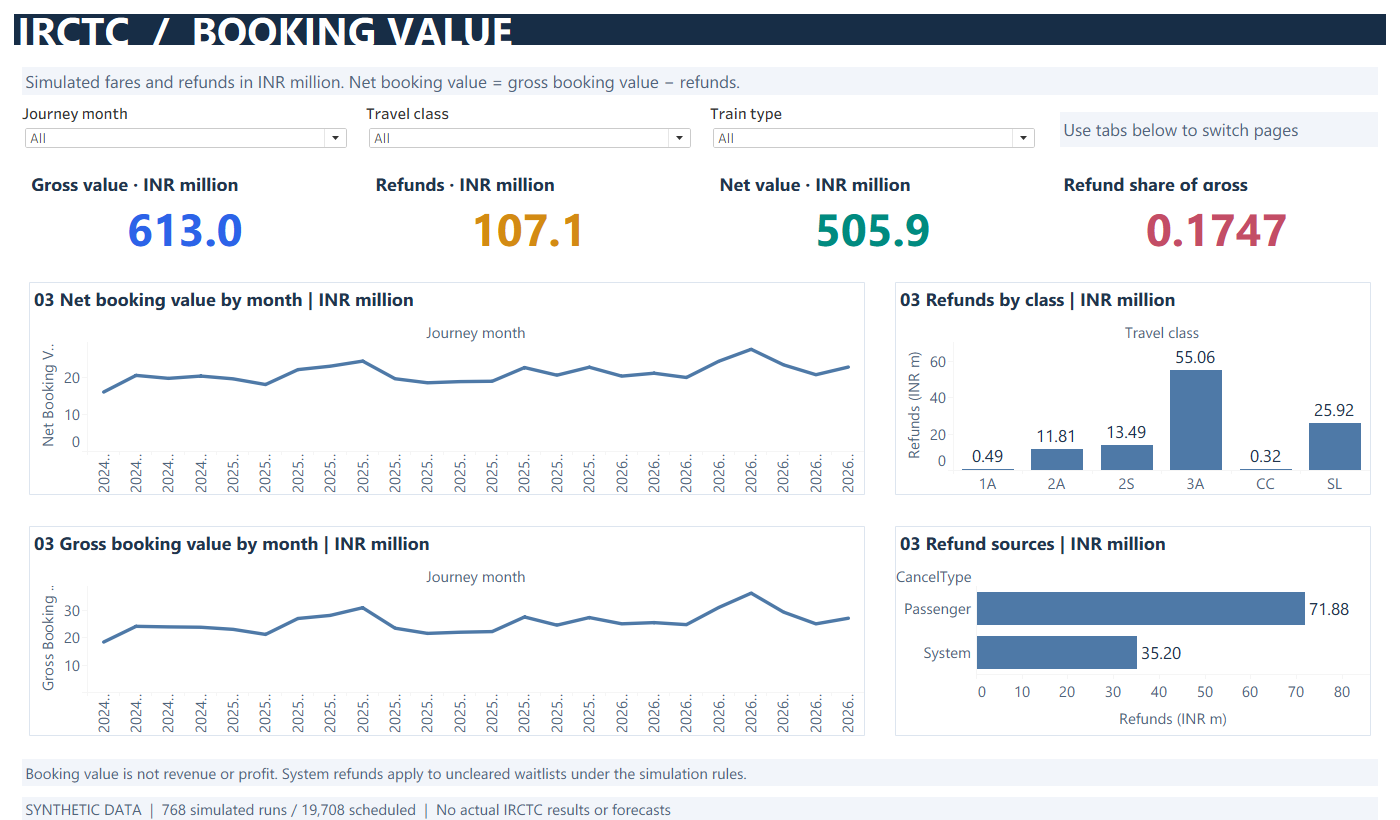

What the dashboard file says about the page in this screenshot:
{"tool":"tableau","page":{"name":"03 Booking value","canvas":[1400,820],"ordinal":2},"visuals":[{"type":"text","box":[0,0,1400,58]},{"type":"text","box":[22,66,1356,28]},{"type":"parameter","param":"[Parameters].[Journey month]","box":[22,102,328,53]},{"type":"parameter","param":"[Parameters].[Travel class]","box":[366,102,328,53]},{"type":"parameter","param":"[Parameters].[Train type]","box":[710,102,328,53]},{"type":"text","box":[1060,111,318,35]},{"type":"text","box":[22,168,327,27]},{"type":"text","box":[366,168,327,27]},{"type":"text","box":[710,168,327,27]},{"type":"text","box":[1054,168,327,27]},{"type":"worksheet","title":"03 KPI Gross value · INR million","mark":"Text","box":[22,195,327,61]},{"type":"worksheet","title":"03 KPI Refunds · INR million","mark":"Text","box":[366,195,327,61]},{"type":"worksheet","title":"03 KPI Net value · INR million","mark":"Text","box":[710,195,327,61]},{"type":"worksheet","title":"03 KPI Refund share of gross","mark":"Text","box":[1054,195,327,61]},{"type":"worksheet","title":"03 Net booking value by month | INR million","mark":"Line","rows":["Net Booking Value (INR m)"],"cols":["Month"],"box":[22,272,850,225]},{"type":"worksheet","title":"03 Refunds by class | INR million","mark":"Bar","rows":["Refunds (INR m)"],"cols":["TravelClass"],"box":[888,272,490,225]},{"type":"worksheet","title":"03 Gross booking value by month | INR million","mark":"Line","rows":["Gross Booking Value (INR m)"],"cols":["Month"],"box":[22,513,850,222]},{"type":"worksheet","title":"03 Refund sources | INR million","mark":"Bar","rows":["CancelType"],"cols":["Refunds (INR m)"],"box":[888,513,490,222]},{"type":"text","box":[22,751,1356,27]},{"type":"text","box":[22,788,1356,23]}]}

Visuals, with their boxes in screenshot pixels (x1, y1, x2, y2), scaled from the page's 1400x820 canvas onto the 1400x820 screenshot:
text: {"x1": 0, "y1": 0, "x2": 1399, "y2": 58}
text: {"x1": 22, "y1": 66, "x2": 1378, "y2": 94}
parameter: {"x1": 22, "y1": 102, "x2": 350, "y2": 155}
parameter: {"x1": 366, "y1": 102, "x2": 694, "y2": 155}
parameter: {"x1": 710, "y1": 102, "x2": 1038, "y2": 155}
text: {"x1": 1060, "y1": 111, "x2": 1378, "y2": 146}
text: {"x1": 22, "y1": 168, "x2": 349, "y2": 195}
text: {"x1": 366, "y1": 168, "x2": 693, "y2": 195}
text: {"x1": 710, "y1": 168, "x2": 1037, "y2": 195}
text: {"x1": 1054, "y1": 168, "x2": 1381, "y2": 195}
"03 KPI Gross value · INR million" worksheet (Text marks): {"x1": 22, "y1": 195, "x2": 349, "y2": 256}
"03 KPI Refunds · INR million" worksheet (Text marks): {"x1": 366, "y1": 195, "x2": 693, "y2": 256}
"03 KPI Net value · INR million" worksheet (Text marks): {"x1": 710, "y1": 195, "x2": 1037, "y2": 256}
"03 KPI Refund share of gross" worksheet (Text marks): {"x1": 1054, "y1": 195, "x2": 1381, "y2": 256}
"03 Net booking value by month | INR million" worksheet (Line marks): {"x1": 22, "y1": 272, "x2": 872, "y2": 497}
"03 Refunds by class | INR million" worksheet (Bar marks): {"x1": 888, "y1": 272, "x2": 1378, "y2": 497}
"03 Gross booking value by month | INR million" worksheet (Line marks): {"x1": 22, "y1": 513, "x2": 872, "y2": 735}
"03 Refund sources | INR million" worksheet (Bar marks): {"x1": 888, "y1": 513, "x2": 1378, "y2": 735}
text: {"x1": 22, "y1": 751, "x2": 1378, "y2": 778}
text: {"x1": 22, "y1": 788, "x2": 1378, "y2": 811}
